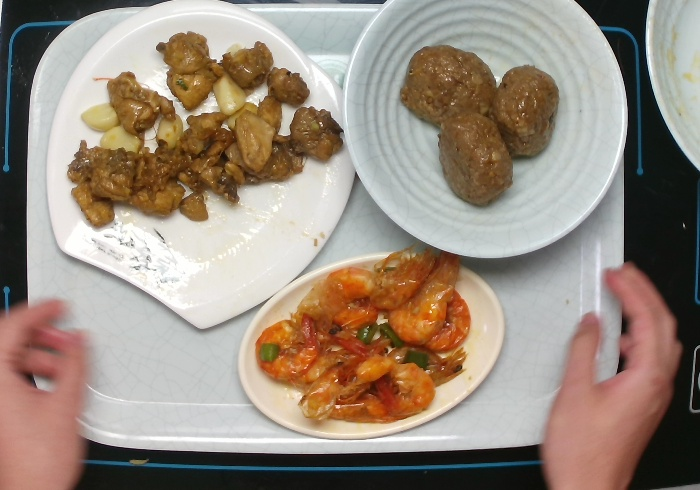JYsf-Mian_Pan: (41, 1, 364, 333)
JYsf-Tuo_Yuan_Wan: (233, 247, 510, 445)
JYsf-Xiao_Tang_Wan: (337, 1, 632, 263)
